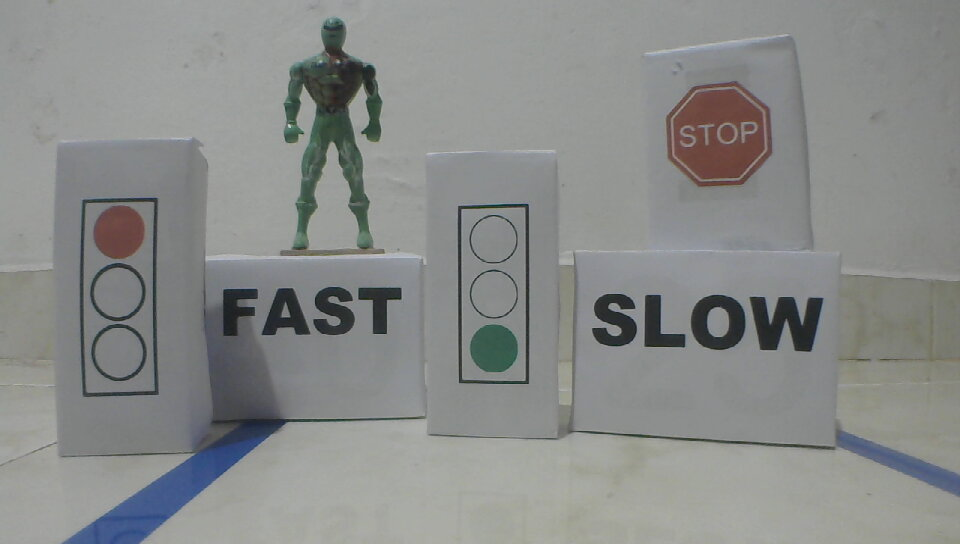Fast: (219, 285, 402, 340)
Green Traffic Light: (455, 201, 532, 388)
Person: (282, 15, 387, 255)
Red Traffic Light: (78, 195, 162, 399)
Slow: (592, 290, 826, 357)
Stop Sign: (665, 78, 777, 188)
